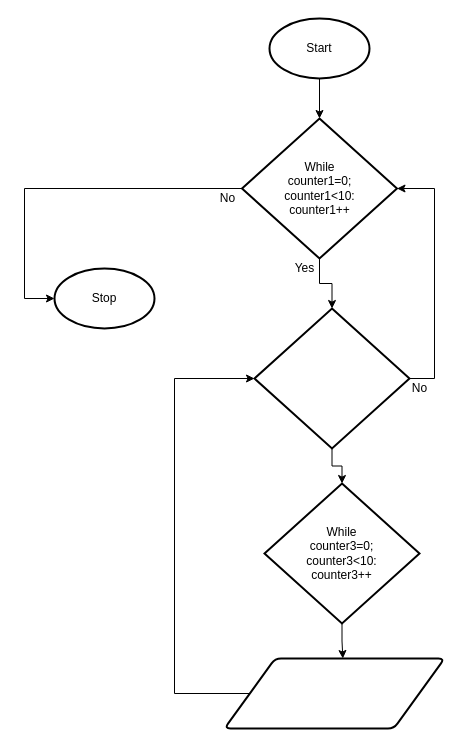
Image size: 463x746. Some labels were removed from this diagram. The centre of each missing label's shape, as x and y in pixels:
"print(counter1, counter2, counter3)" goes at point 334,693.
"While counter2=0; counter2<10: counter2++" goes at point 331,378.
